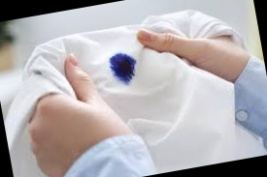ink: (109, 52, 138, 84)
